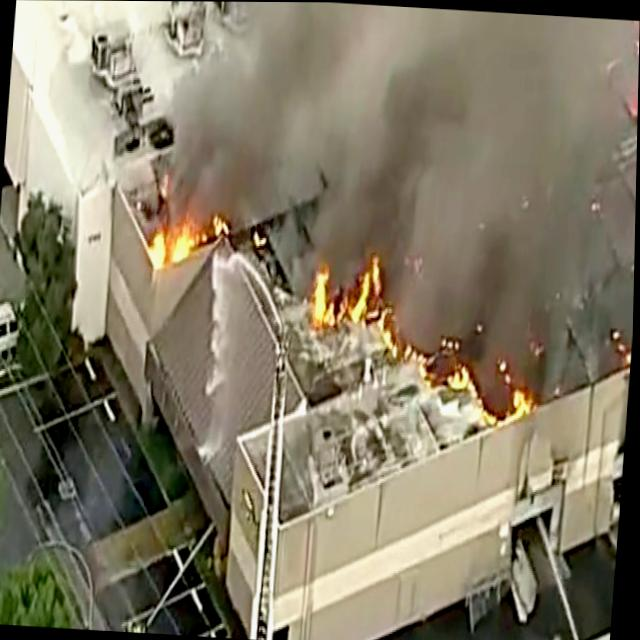smoke: (328, 2, 606, 168)
